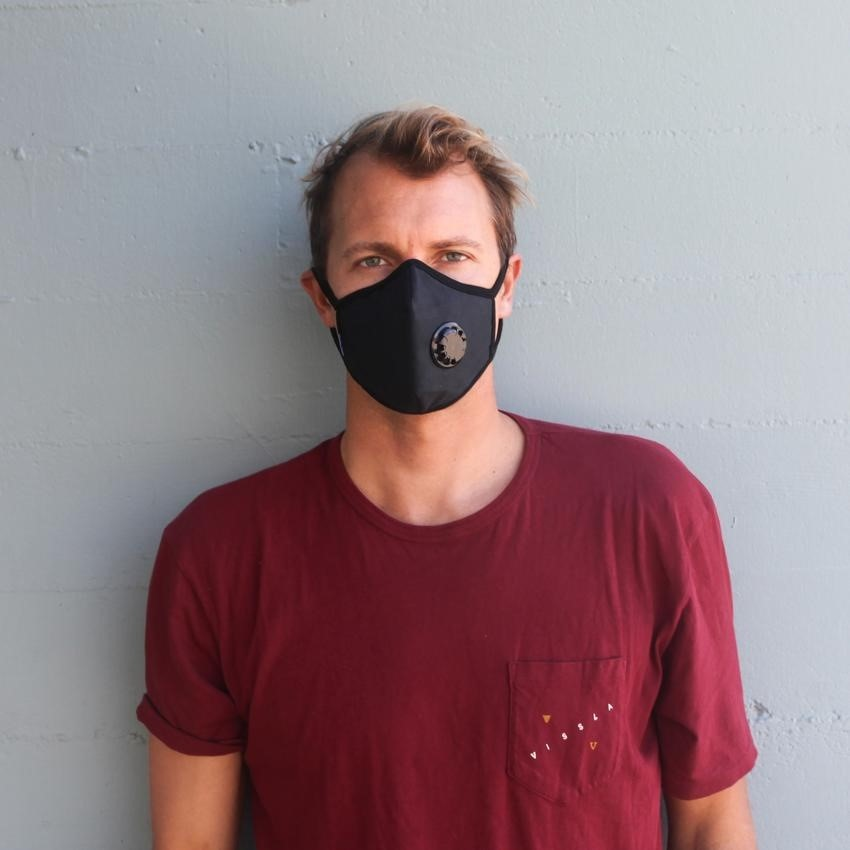face_with_mask: (293, 137, 525, 437)
